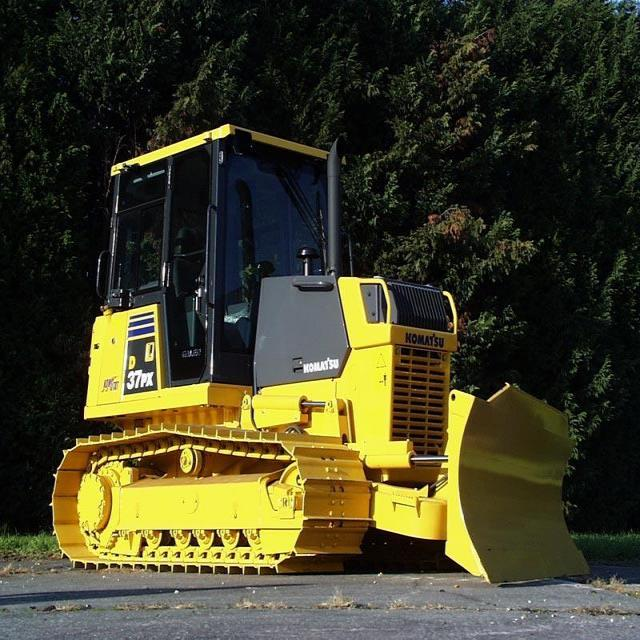Bulldozer: (47, 109, 602, 608)
